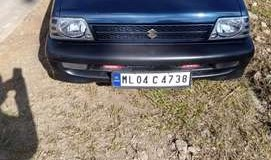ML04C4738: (111, 71, 189, 87)
